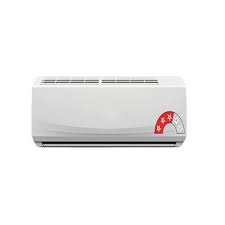ac: (25, 69, 199, 159)
